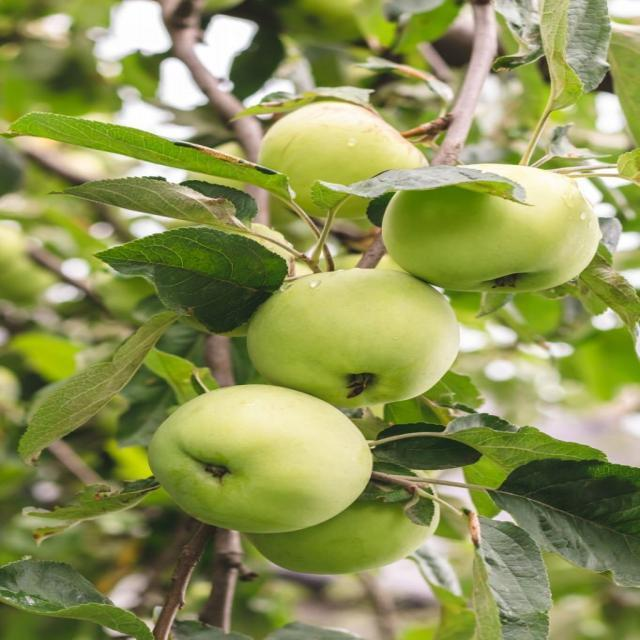Green Apple: (368, 155, 598, 312), (246, 267, 471, 401), (162, 398, 373, 532), (271, 459, 427, 575), (265, 99, 413, 213)
